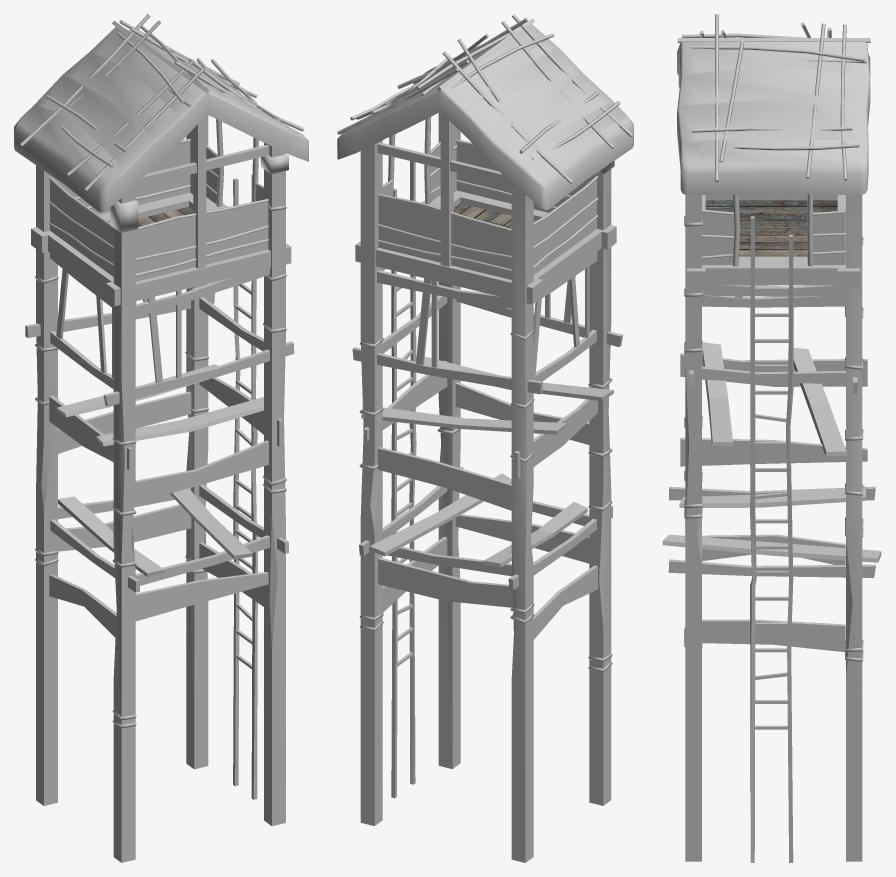
The model's file is Tower1.fbx.
3 renders of one model, left to right at view 1: azimuth 30°, elevation 25°; view 2: azimuth 150°, elevation 25°; view 3: azimuth 270°, elevation 25°, orthographic. The views are drawn at different scales.
Parts seen in each view (by area): view 1: Tower_1; view 2: Tower_1; view 3: Tower_1.
Part boxes in pixels (bbox=[...]): Tower_1: bbox=[14, 14, 308, 862]; Tower_1: bbox=[337, 14, 633, 862]; Tower_1: bbox=[662, 14, 881, 862].
Size of the model in its own units: 4.94 by 16.04 by 3.96.
